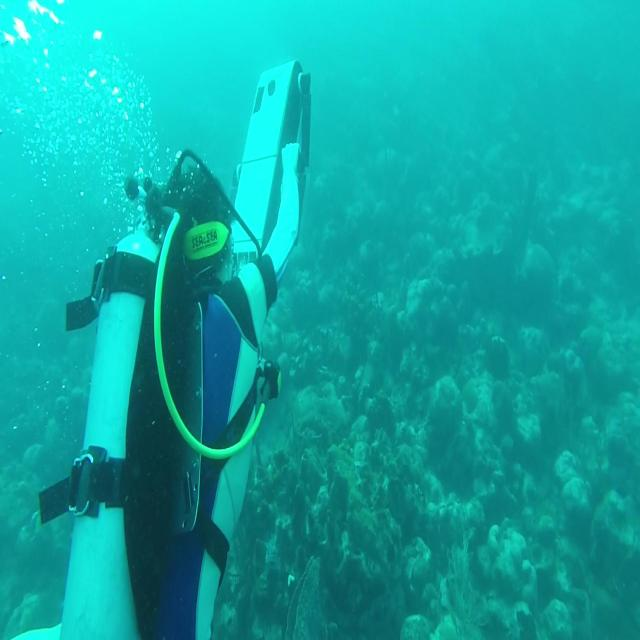human: (43, 59, 312, 638)
